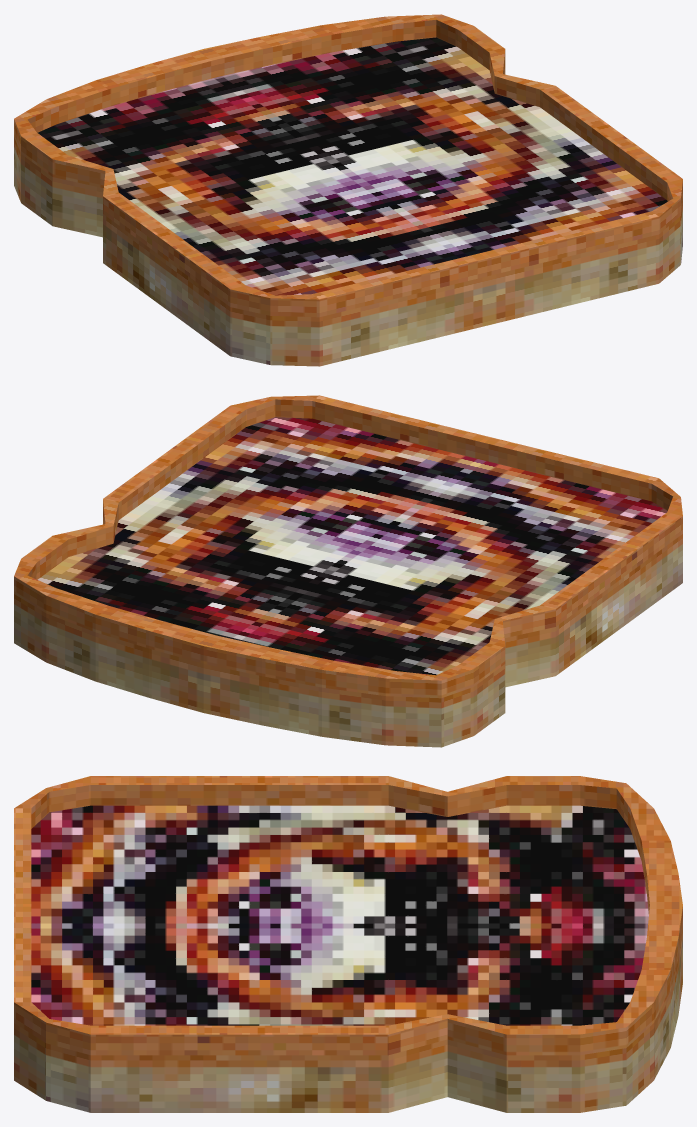
Rendered from spiral_bread.fbx.
The picture shows the model from 3 angles, top to bottom: view 1: azimuth 30°, elevation 25°; view 2: azimuth 150°, elevation 25°; view 3: azimuth 270°, elevation 25°; orthographic projection. The views are drawn at different scales.
Parts seen in each view (by area): view 1: Cube; view 2: Cube; view 3: Cube.
Part boxes in pixels (left/top/right/bottom): Cube: left=14, top=14, right=682, bottom=366; Cube: left=14, top=395, right=682, bottom=747; Cube: left=14, top=776, right=682, bottom=1112.
Bounding box in the file's own units: 5.29 × 0.7482 × 5.79.
